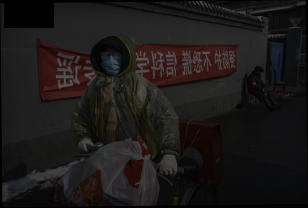with_mask: (99, 47, 123, 77)
